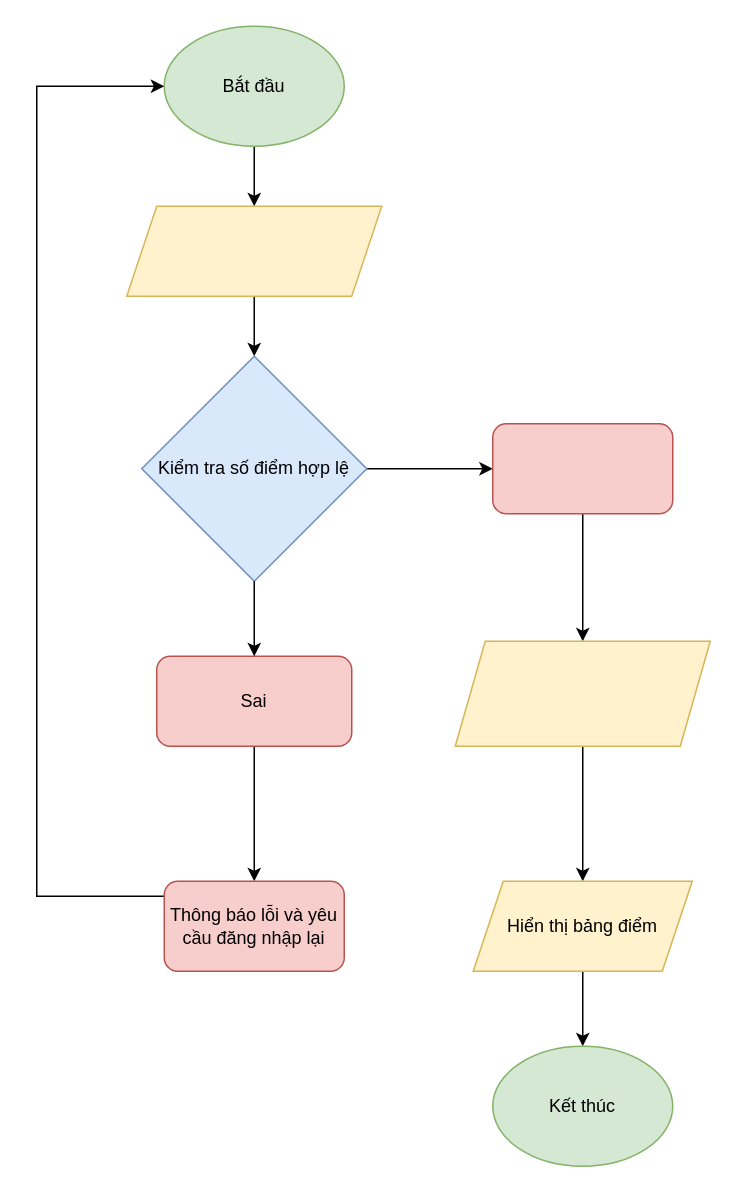
This 737x1193 diagram has some shape labels left out. Each missing label, with the centre of its shape:
"Sinh viên nhập điểm" belongs at (x=253, y=250).
"Tính trung bình và xếp loại" belongs at (x=582, y=693).
"Đúng" belongs at (x=582, y=468).
